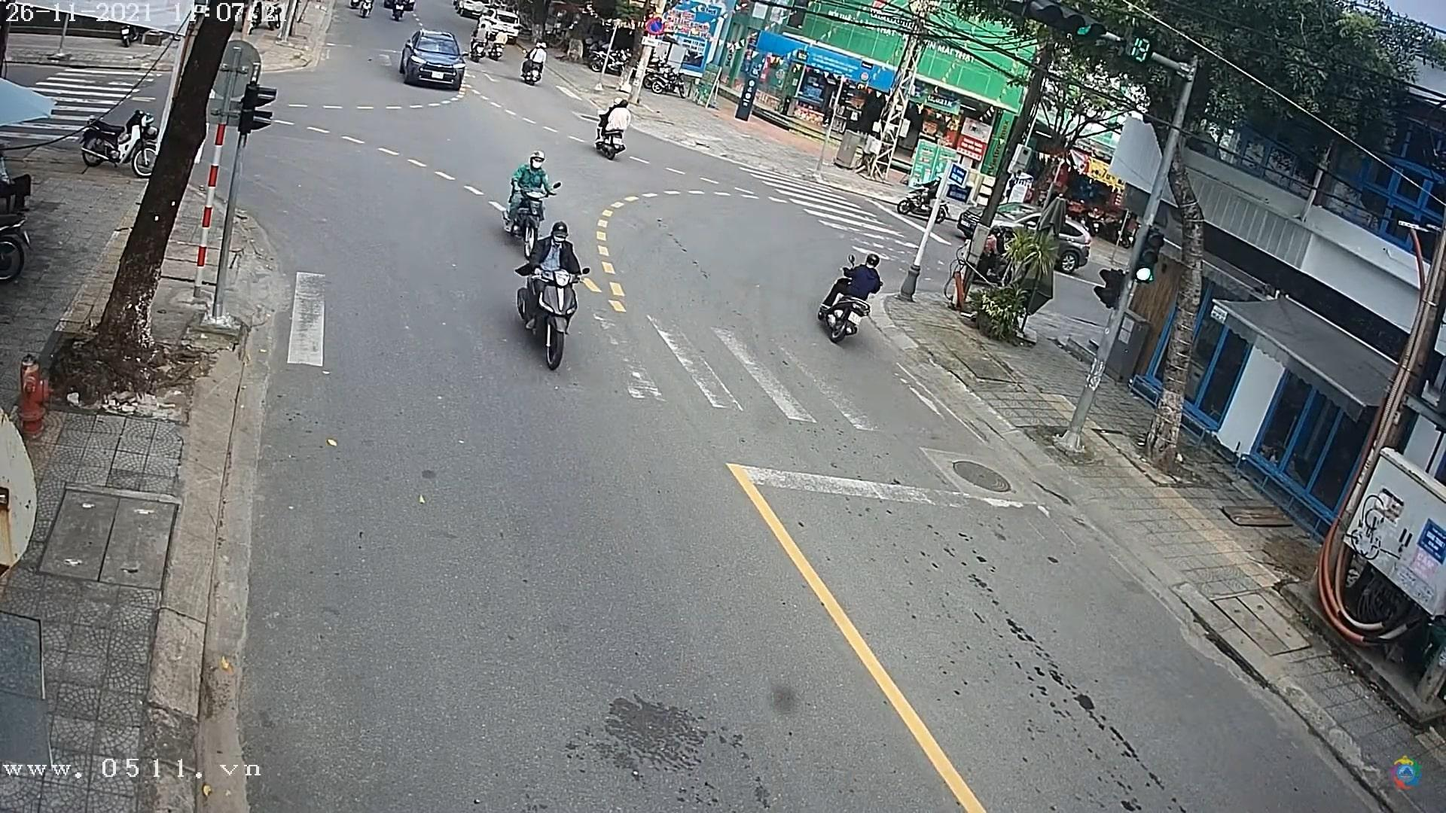car: (396, 26, 467, 90)
motorbike: (514, 266, 591, 375), (503, 196, 548, 238)
